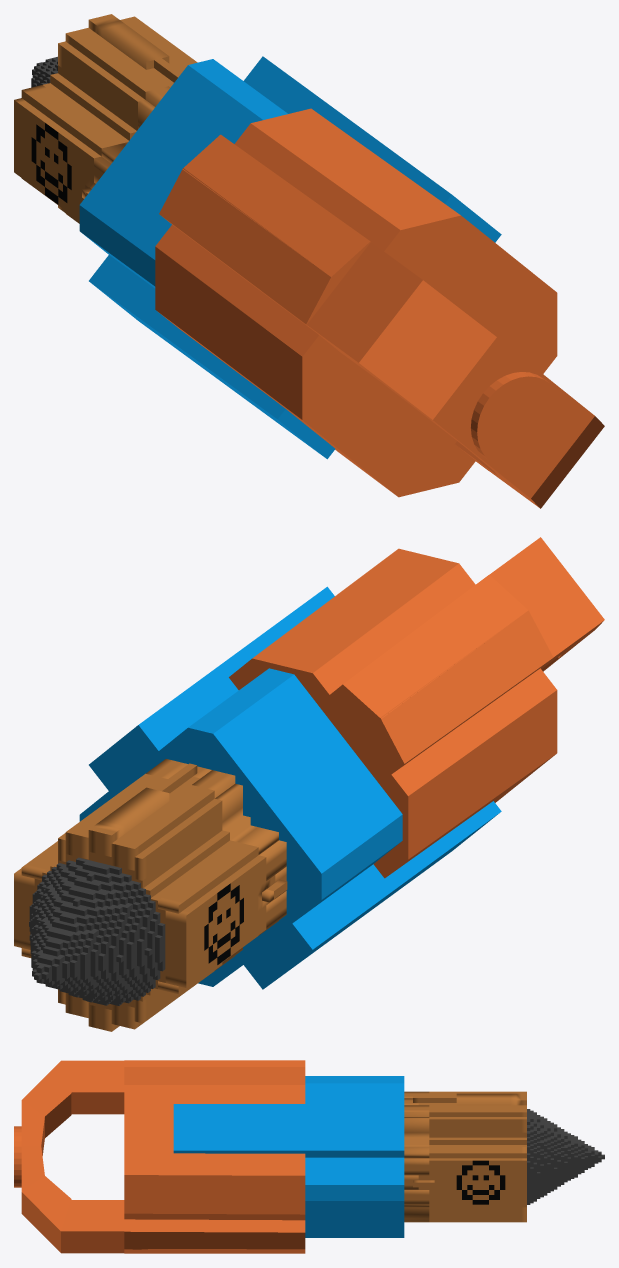
The model's file is MultilayerDrill.fbx.
The picture shows the model from 3 angles, top to bottom: view 1: azimuth 30°, elevation 25°; view 2: azimuth 150°, elevation 25°; view 3: azimuth 270°, elevation 25°; orthographic projection. The views are drawn at different scales.
Visible parts, largest first — view 1: Cylinder.001, Cube, Cylinder; view 2: Cylinder.001, Cube, Cylinder, Cone; view 3: Cylinder.001, Cube, Cylinder, Cone.
Part boxes in pixels (x1,y1,x2,y2): Cylinder.001: (155, 108, 604, 508); Cube: (79, 56, 501, 459); Cylinder: (14, 14, 197, 223); Cylinder.001: (229, 537, 604, 878); Cube: (79, 586, 501, 989); Cylinder: (14, 759, 287, 1031); Cone: (29, 857, 165, 1005); Cylinder.001: (14, 1060, 305, 1253); Cube: (173, 1076, 404, 1237); Cylinder: (404, 1091, 526, 1222); Cone: (527, 1109, 604, 1204).
Bounding box in the file's own units: 367 × 367 × 1209.
